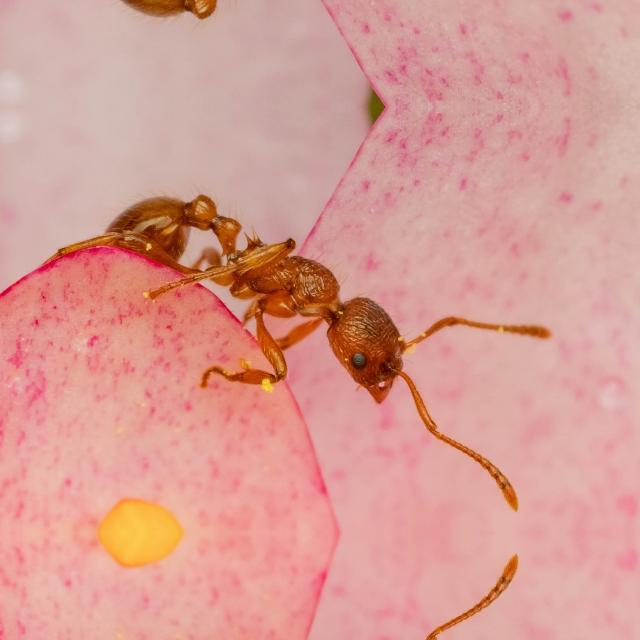Myrmica: (52, 152, 518, 430), (52, 0, 518, 60)
